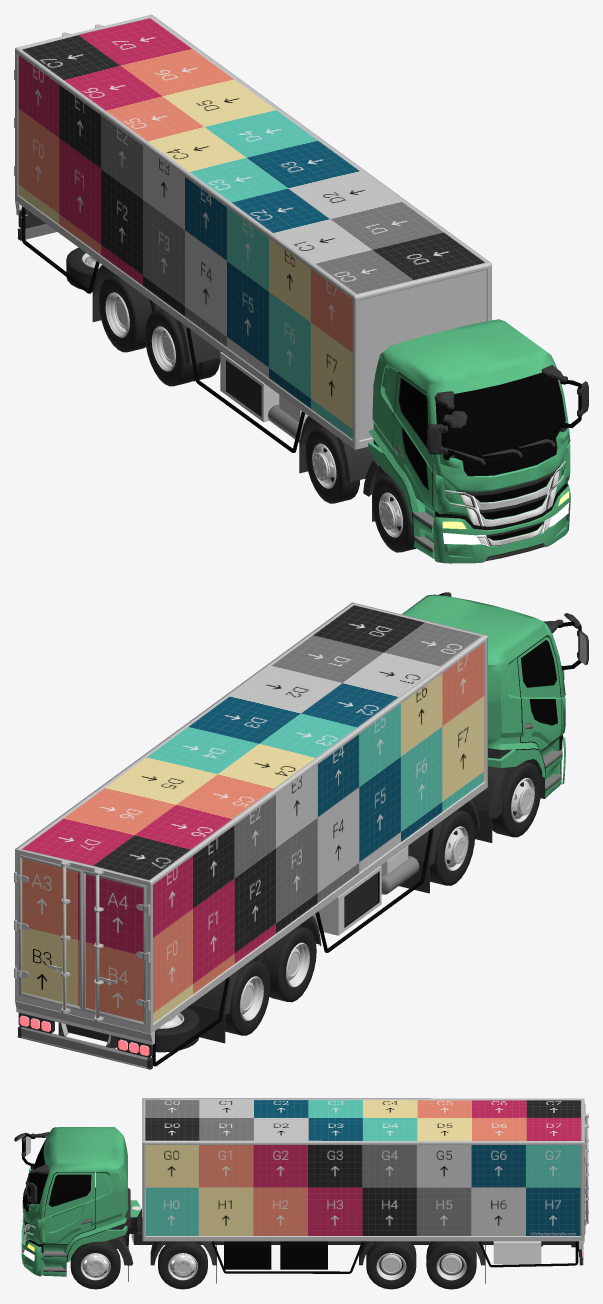
File: MemeTruck.glb
3 views of the same model, one above another, from view 1: azimuth 30°, elevation 25°; view 2: azimuth 150°, elevation 25°; view 3: azimuth 270°, elevation 25° (orthographic). The views are drawn at different scales.
Parts seen in each view (by area): view 1: TheOnlyThingThatMatters, Object_8, WheelR4, WheelR3, WheelR2, WheelR1; view 2: TheOnlyThingThatMatters, Object_8, WheelR3, WheelR1, WheelR4, WheelR2; view 3: TheOnlyThingThatMatters, Object_8, WheelL4, WheelL3, WheelL2, WheelL1.
Boxes of the visible parts, x1,y1,x2,y2 form: TheOnlyThingThatMatters: (14, 14, 491, 449); Object_8: (15, 201, 588, 563); WheelR4: (98, 275, 162, 352); WheelR3: (145, 309, 220, 386); WheelR2: (305, 427, 360, 503); WheelR1: (372, 476, 415, 552); TheOnlyThingThatMatters: (14, 602, 487, 1045); Object_8: (15, 592, 588, 1069); WheelR3: (253, 926, 316, 1002); WheelR1: (492, 761, 541, 837); WheelR4: (225, 959, 270, 1035); WheelR2: (430, 809, 475, 885); TheOnlyThingThatMatters: (131, 1098, 588, 1243); Object_8: (14, 1127, 584, 1283); WheelL4: (426, 1241, 476, 1289); WheelL3: (366, 1241, 416, 1289); WheelL2: (158, 1241, 207, 1289); WheelL1: (70, 1241, 120, 1289).
Size of the model in its own units: 3.45 by 4.51 by 15.91.
36 materials, 1 textured.
